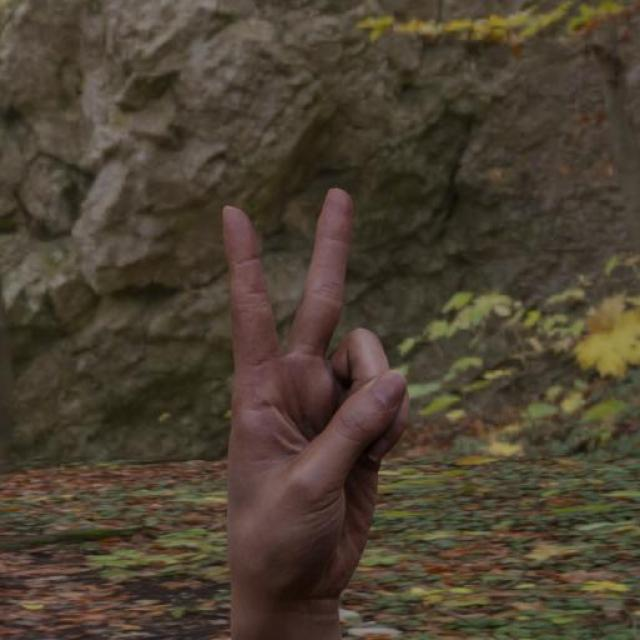V: (207, 180, 419, 618)
